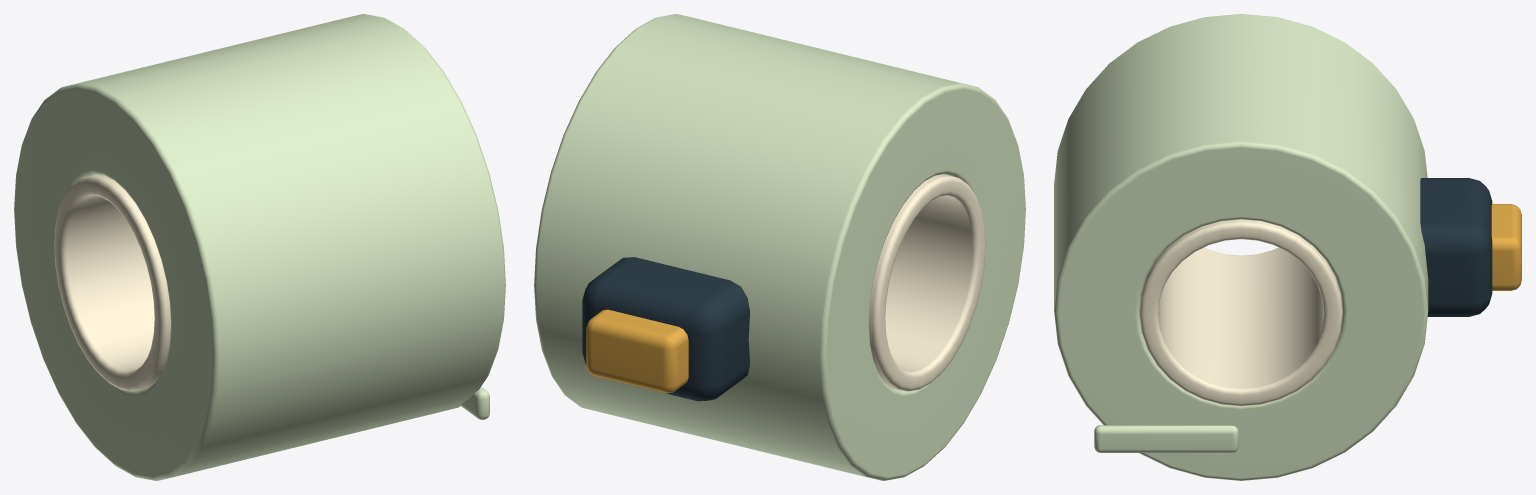
File: part_tape_roll.glb
3 views of the same model, side by side, from view 1: azimuth 30°, elevation 25°; view 2: azimuth 150°, elevation 25°; view 3: azimuth 270°, elevation 25° (orthographic). The views are drawn at different scales.
Parts seen in each view (by area): view 1: Frosted adhesive tape, Cardboard spool, Tape loose tab; view 2: Frosted adhesive tape, Cardboard spool, Universal rubber mounting pad.008, Snap-in brass tongue.008; view 3: Frosted adhesive tape, Cardboard spool, Universal rubber mounting pad.008, Tape loose tab, Snap-in brass tongue.008.
Boxes of the visible parts, box(x1,y1,x2,y2) form: Frosted adhesive tape: box(14, 14, 505, 480); Cardboard spool: box(54, 174, 170, 391); Tape loose tab: box(460, 387, 489, 419); Frosted adhesive tape: box(534, 14, 1025, 480); Cardboard spool: box(869, 174, 985, 391); Universal rubber mounting pad.008: box(582, 257, 749, 401); Snap-in brass tongue.008: box(586, 309, 688, 393); Frosted adhesive tape: box(1054, 14, 1428, 480); Cardboard spool: box(1139, 219, 1342, 406); Universal rubber mounting pad.008: box(1420, 178, 1492, 316); Tape loose tab: box(1094, 425, 1238, 452); Snap-in brass tongue.008: box(1491, 204, 1521, 290).
Bounding box in the file's own units: 0.0121 × 0.014 × 0.0175.
